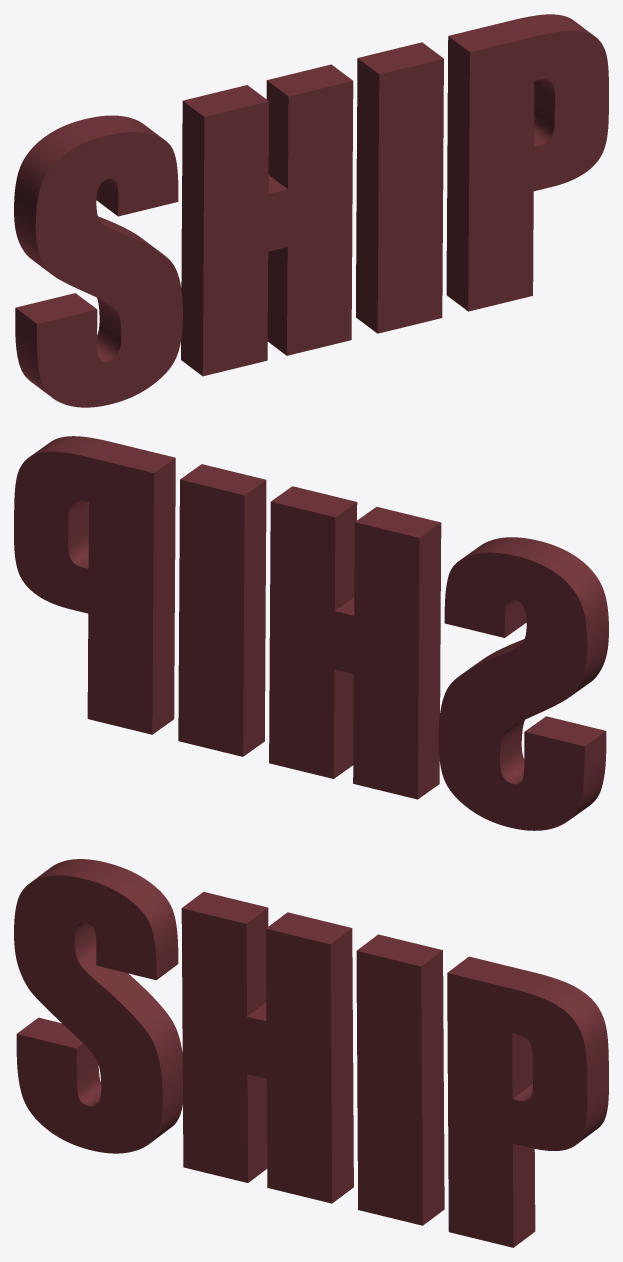
The model's file is SHIP_Title.fbx.
3 renders of one model, top to bottom at view 1: azimuth 30°, elevation 25°; view 2: azimuth 150°, elevation 25°; view 3: azimuth 330°, elevation 25°, orthographic.
Visible parts, largest first — view 1: Text.001; view 2: Text.001; view 3: Text.001.
Part boxes in pixels (left/top/right/bottom): Text.001: left=14, top=14, right=608, bottom=407; Text.001: left=14, top=436, right=608, bottom=830; Text.001: left=14, top=859, right=608, bottom=1247.
Bounding box in the file's own units: 121 × 55.06 × 8.63.
